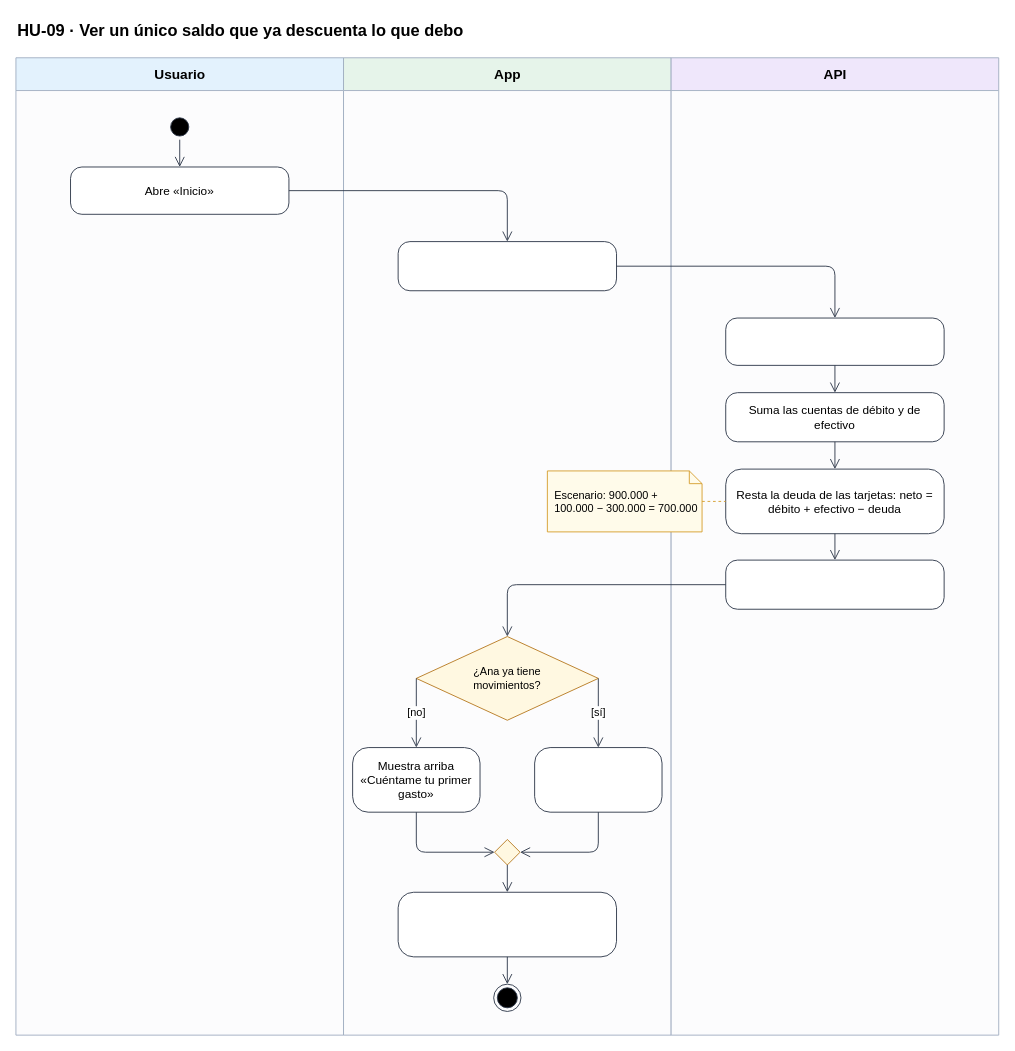
Image size: 1015x1051. Some labels were removed from this diagram. Each missing label, with the centre of its shape:
Arma el resto del inicio y responde: [834,584]
Identifica a Ana por el token: [834,341]
Muestra arriba la cifra de su objetivo (HU‑25): [598,779]
Muestra «En tus cuentas» con el saldo neto y «2 cuentas · 1 tarjeta»: [507,924]
Pide el resumen de inicio con la fecha del teléfono: [507,266]
